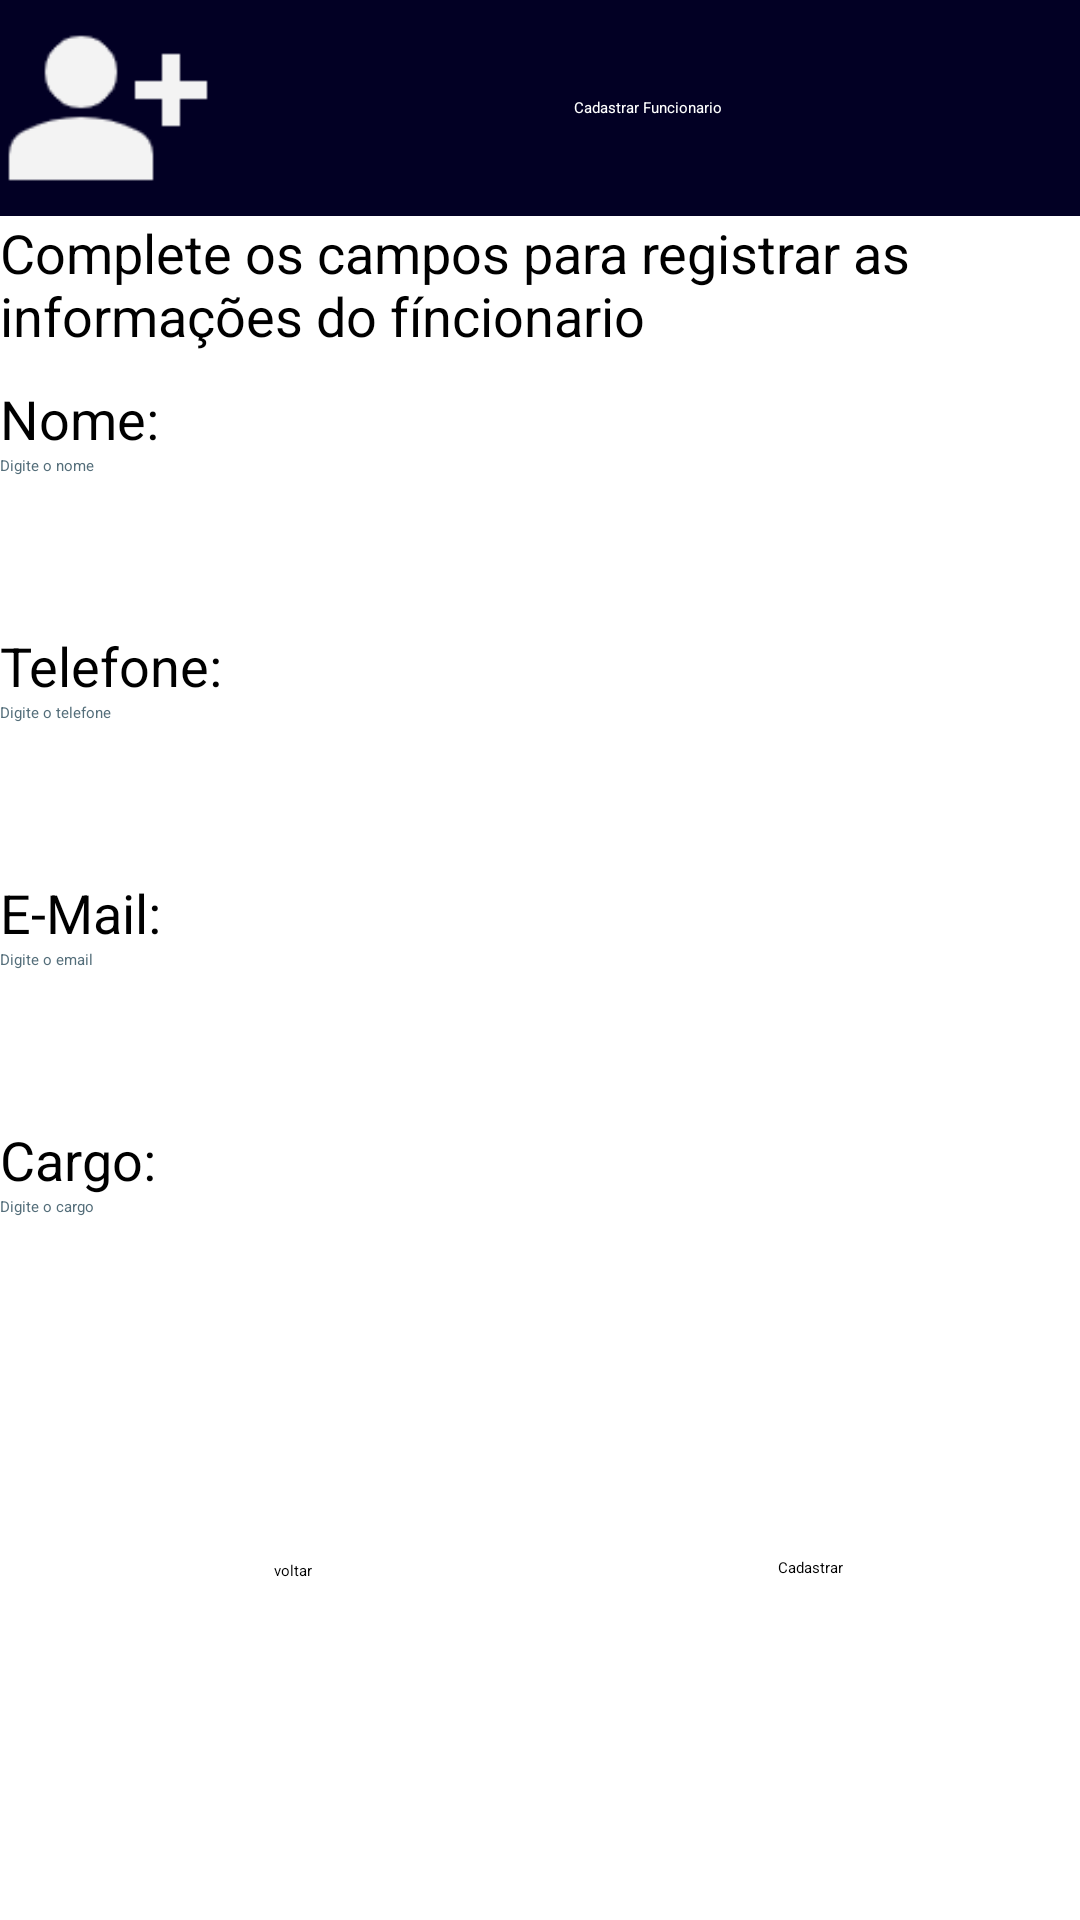

Screen size 1080 × 1920. Icon name, then its center in pixels as (x=x, y=y):
add user: (x=108, y=108)
